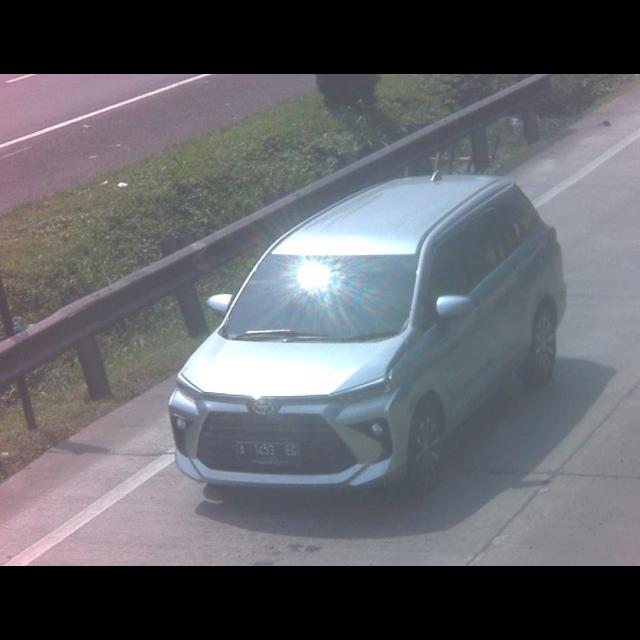plate: (234, 438, 300, 464)
